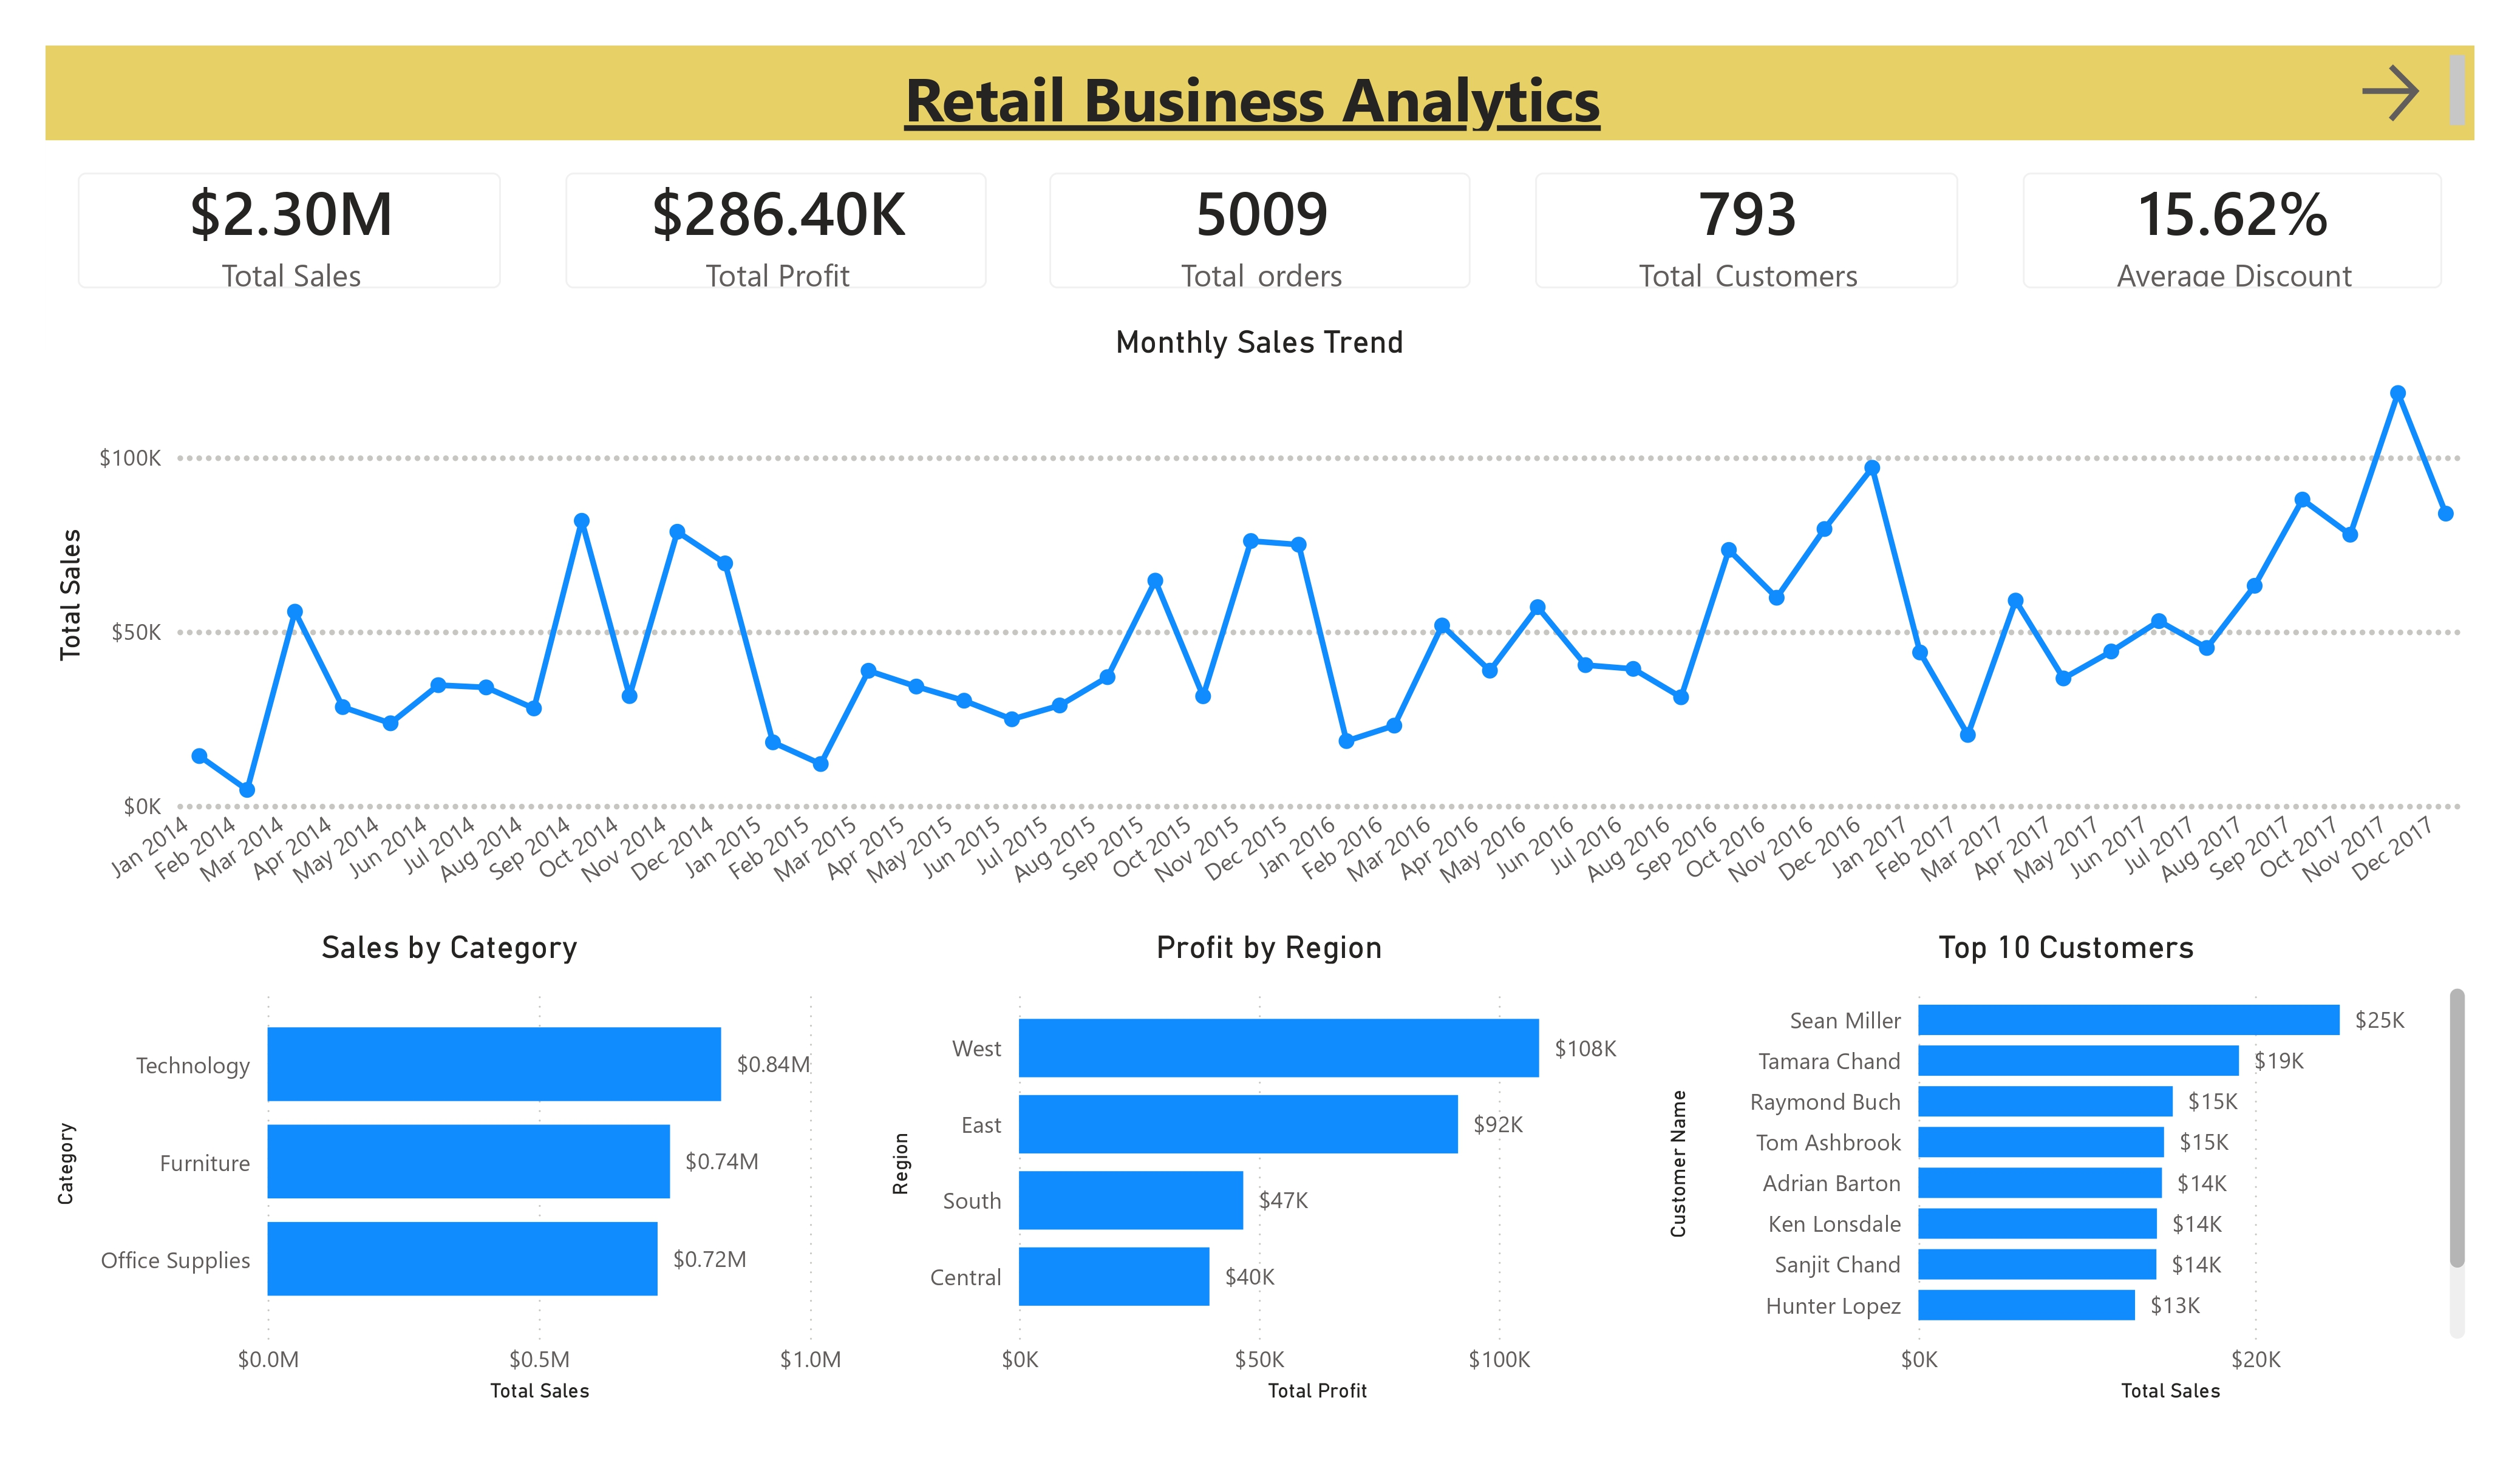

The dashboard page shown, as its layout file describes it:
{"tool":"powerbi","page":{"name":"Executive Dashboard","canvas":[1280,720],"ordinal":0},"visuals":[{"type":"textbox","box":[0,0,1280,50],"z":0},{"type":"cardVisual","fields":{"Data":["Measures_table.Total_orders"]},"box":[511.7,50,256.7,95],"z":1000},{"type":"cardVisual","fields":{"Data":["Measures_table.Total Sales"]},"box":[0,50,256.7,95],"z":2000},{"type":"cardVisual","fields":{"Data":["Measures_table.Average Discount"]},"box":[1025,50,255,95],"z":3000},{"type":"cardVisual","fields":{"Data":["Measures_table.Total Profit"]},"box":[256.7,50,256.7,95],"z":4000},{"type":"cardVisual","fields":{"Data":["Measures_table.Total_Customers"]},"box":[768.3,50,256.7,95],"z":5000},{"type":"lineChart","title":"Monthly Sales Trend","fields":{"Category":["Calendar.Year Month"],"Y":["Measures_table.Total Sales"]},"box":[0,146.2,1280,318.8],"z":6000},{"type":"clusteredBarChart","title":"Sales by Category","fields":{"Category":["orders.category"],"Y":["Measures_table.Total Sales"]},"box":[0,465,426.2,255],"z":7000},{"type":"clusteredBarChart","title":"Profit by Region","fields":{"Category":["orders.region"],"Y":["Measures_table.Total Profit"]},"box":[440,465,410,255],"z":8000},{"type":"clusteredBarChart","title":"Top 10 Customers","fields":{"Category":["orders.customer_name"],"Y":["Measures_table.Total Sales"]},"box":[850,465,430,255],"z":9000},{"type":"actionButton","box":[1215,5,65,40],"z":10000}]}

Visuals, with their boxes on the page's 1280x720 design canvas (x1, y1, x2, y2). These are canvas units, not pixel positions in the 2520x1457 screenshot, which may show the page scaled, cropped or inside an application window:
textbox: {"left": 0, "top": 0, "right": 1280, "bottom": 50}
cardVisual - Measures_table.Total_orders: {"left": 512, "top": 50, "right": 768, "bottom": 145}
cardVisual - Measures_table.Total Sales: {"left": 0, "top": 50, "right": 257, "bottom": 145}
cardVisual - Measures_table.Average Discount: {"left": 1025, "top": 50, "right": 1280, "bottom": 145}
cardVisual - Measures_table.Total Profit: {"left": 257, "top": 50, "right": 513, "bottom": 145}
cardVisual - Measures_table.Total_Customers: {"left": 768, "top": 50, "right": 1025, "bottom": 145}
"Monthly Sales Trend" lineChart: {"left": 0, "top": 146, "right": 1280, "bottom": 465}
"Sales by Category" clusteredBarChart: {"left": 0, "top": 465, "right": 426, "bottom": 720}
"Profit by Region" clusteredBarChart: {"left": 440, "top": 465, "right": 850, "bottom": 720}
"Top 10 Customers" clusteredBarChart: {"left": 850, "top": 465, "right": 1280, "bottom": 720}
actionButton: {"left": 1215, "top": 5, "right": 1280, "bottom": 45}
